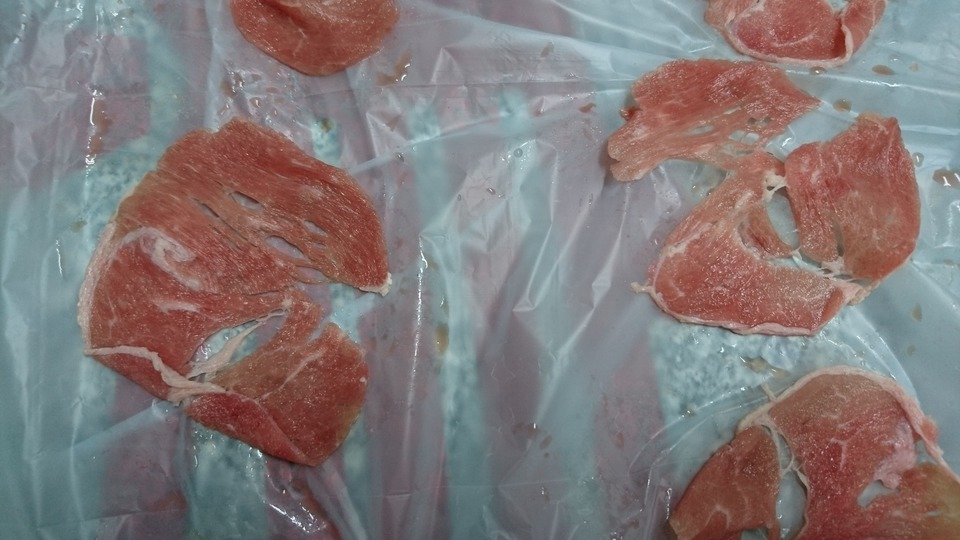restructured meat: (73, 132, 427, 459), (588, 67, 925, 339), (658, 361, 960, 539), (236, 1, 401, 79), (705, 3, 884, 60)
